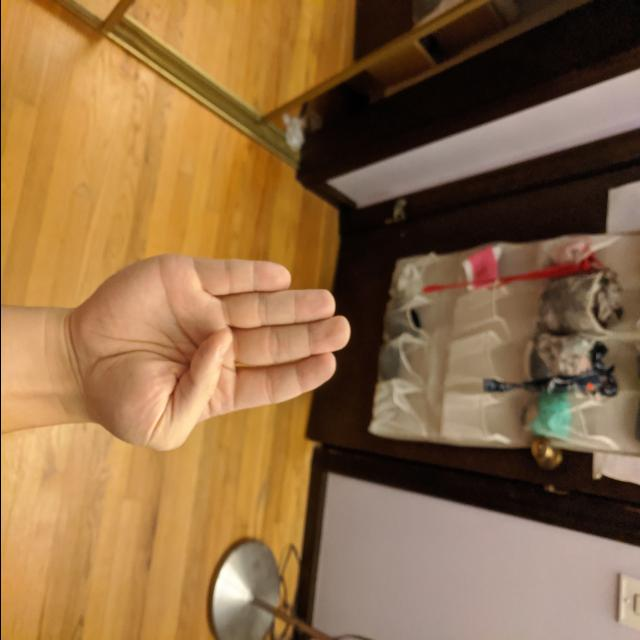B: (61, 248, 354, 461)
